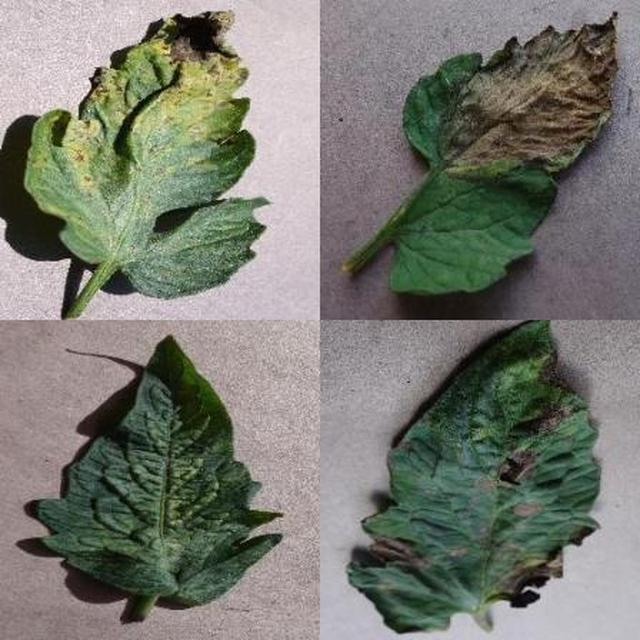Septoria Leaf: (215, 219, 640, 640)
